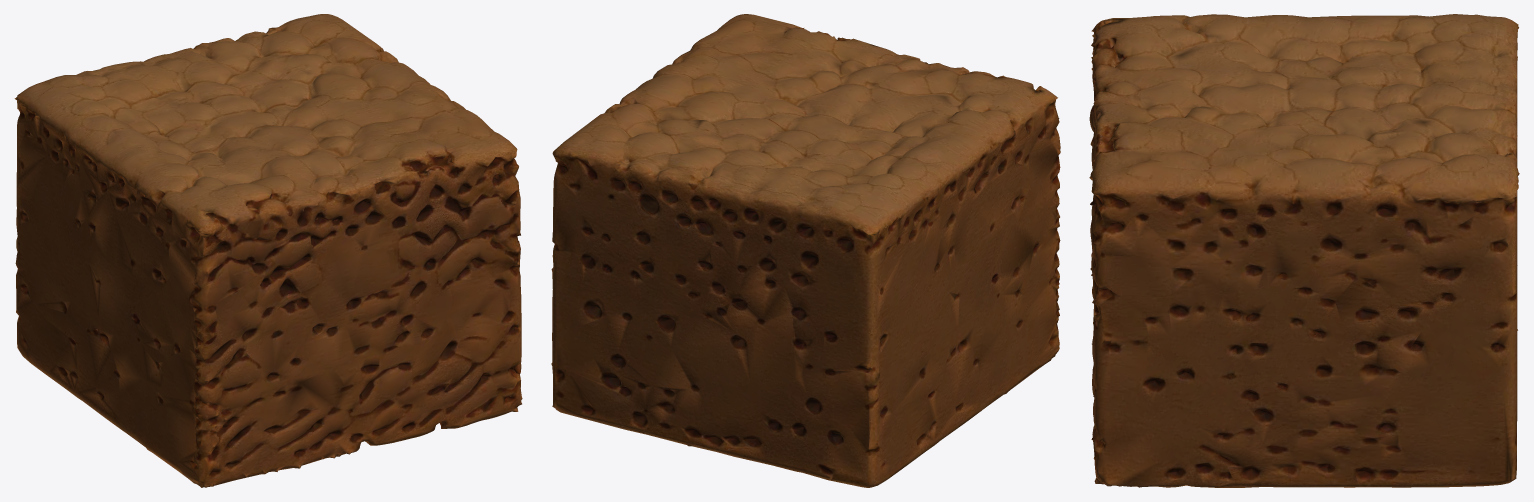
File: bk-pastry-brownie-bite.glb
The picture shows the model from 3 angles, left to right: view 1: azimuth 30°, elevation 25°; view 2: azimuth 150°, elevation 25°; view 3: azimuth 270°, elevation 25°; orthographic projection. The views are drawn at different scales.
Parts seen in each view (by area): view 1: node_0; view 2: node_0; view 3: node_0.
Part boxes in pixels (x1,y1,x2,y2): node_0: (14, 14, 522, 487); node_0: (551, 14, 1060, 487); node_0: (1089, 14, 1519, 487).
Bounding box in the file's own units: 0.7646 × 0.6131 × 0.7679.
Materials: 1 (1 with a texture image).
